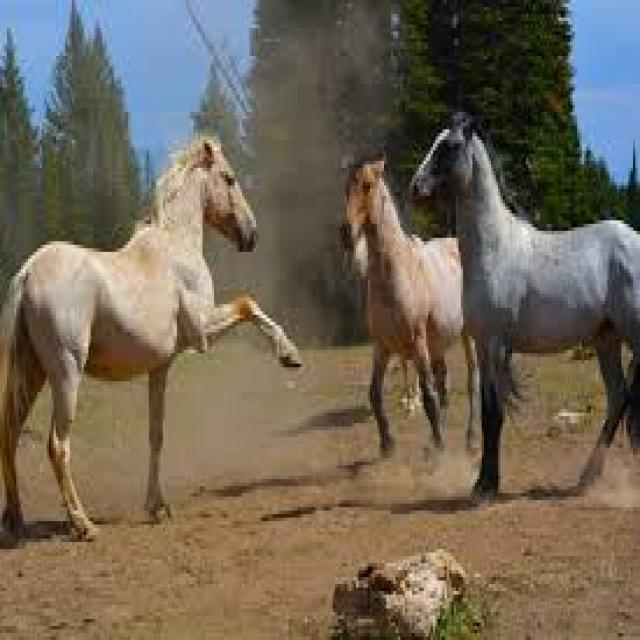horse: (6, 125, 304, 555), (404, 98, 640, 505), (338, 147, 450, 466)
